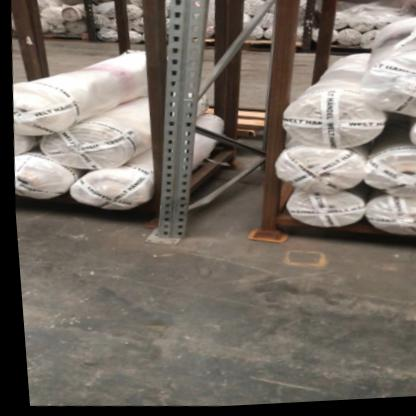vertical_damage: (140, 210, 197, 255)
